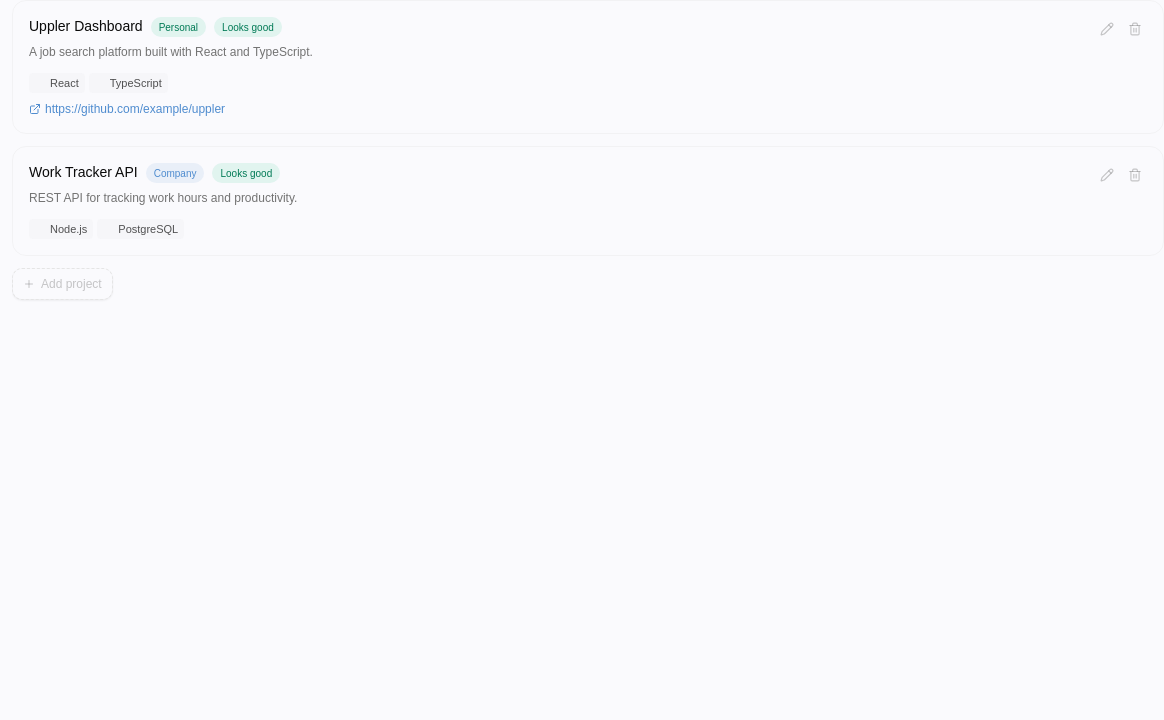
ReviewProjectsSection — edit › shows validation error when name is cleared
Click the button named "edit project" in the row of "Personal": x=1107, y=29 [1095,17,1119,41]
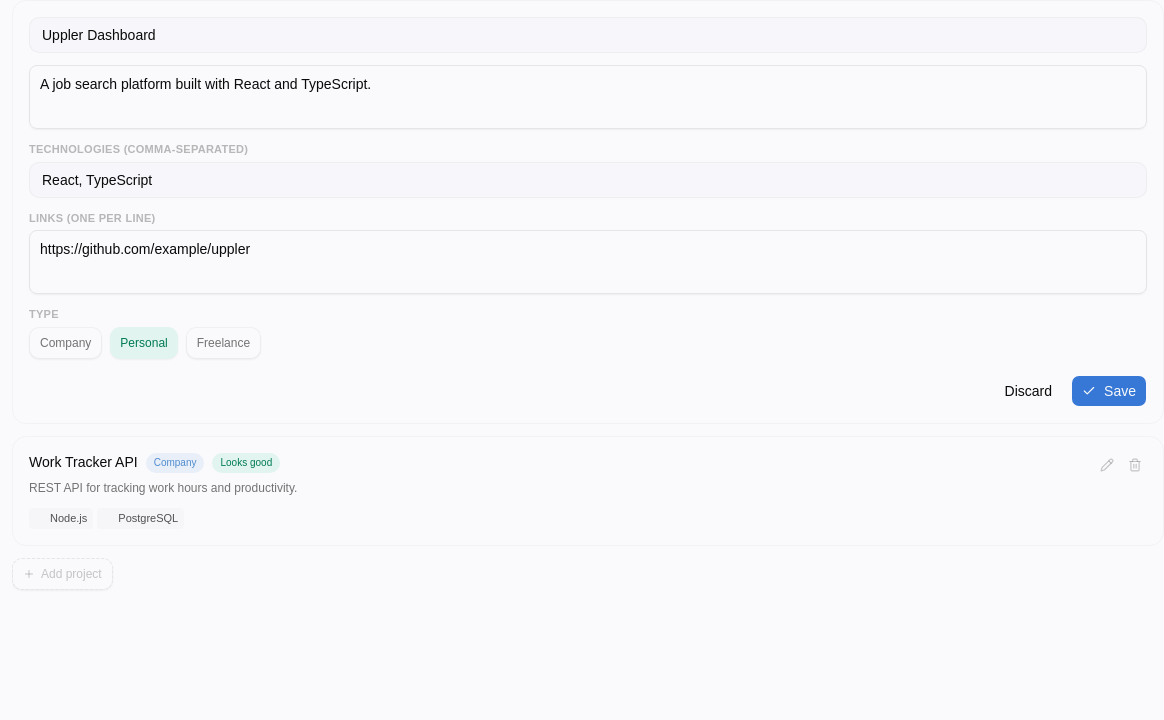
Clear the 1st field showing "Uppler Dashboard": x=588, y=35 [29,17,1147,53]
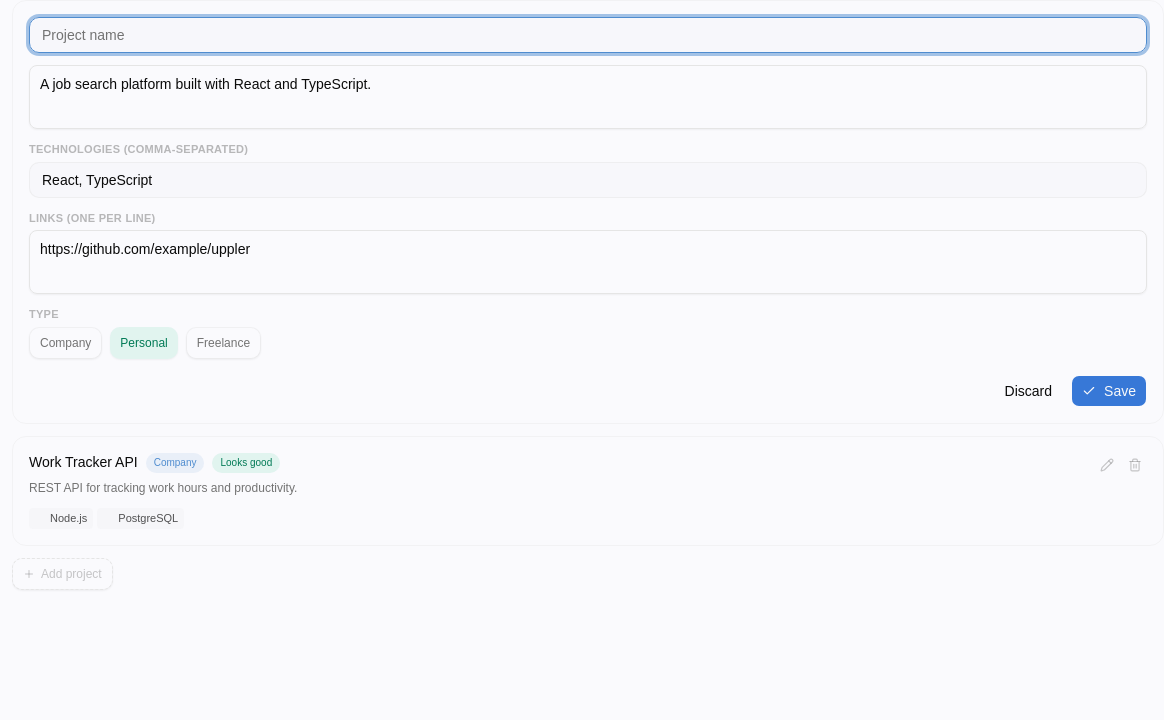
Click the button "Save": x=1109, y=390 [1071,374,1147,406]
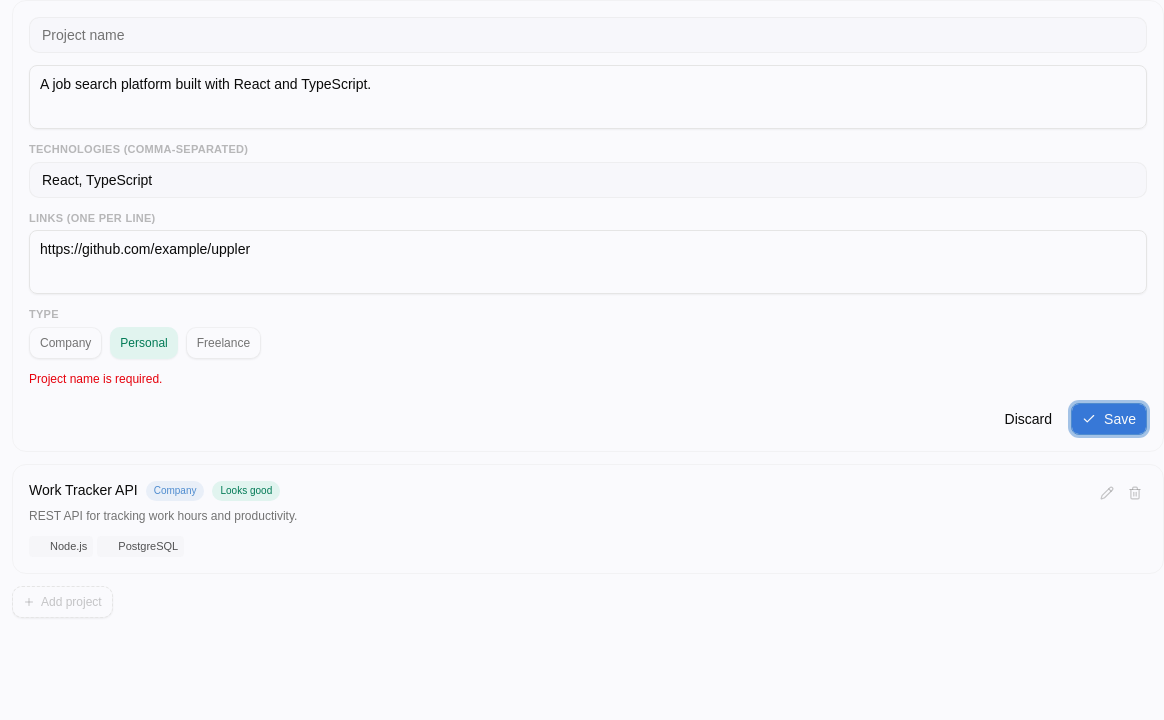
Check: the text "Project name is required." is shown, box [29,372,162,386]
